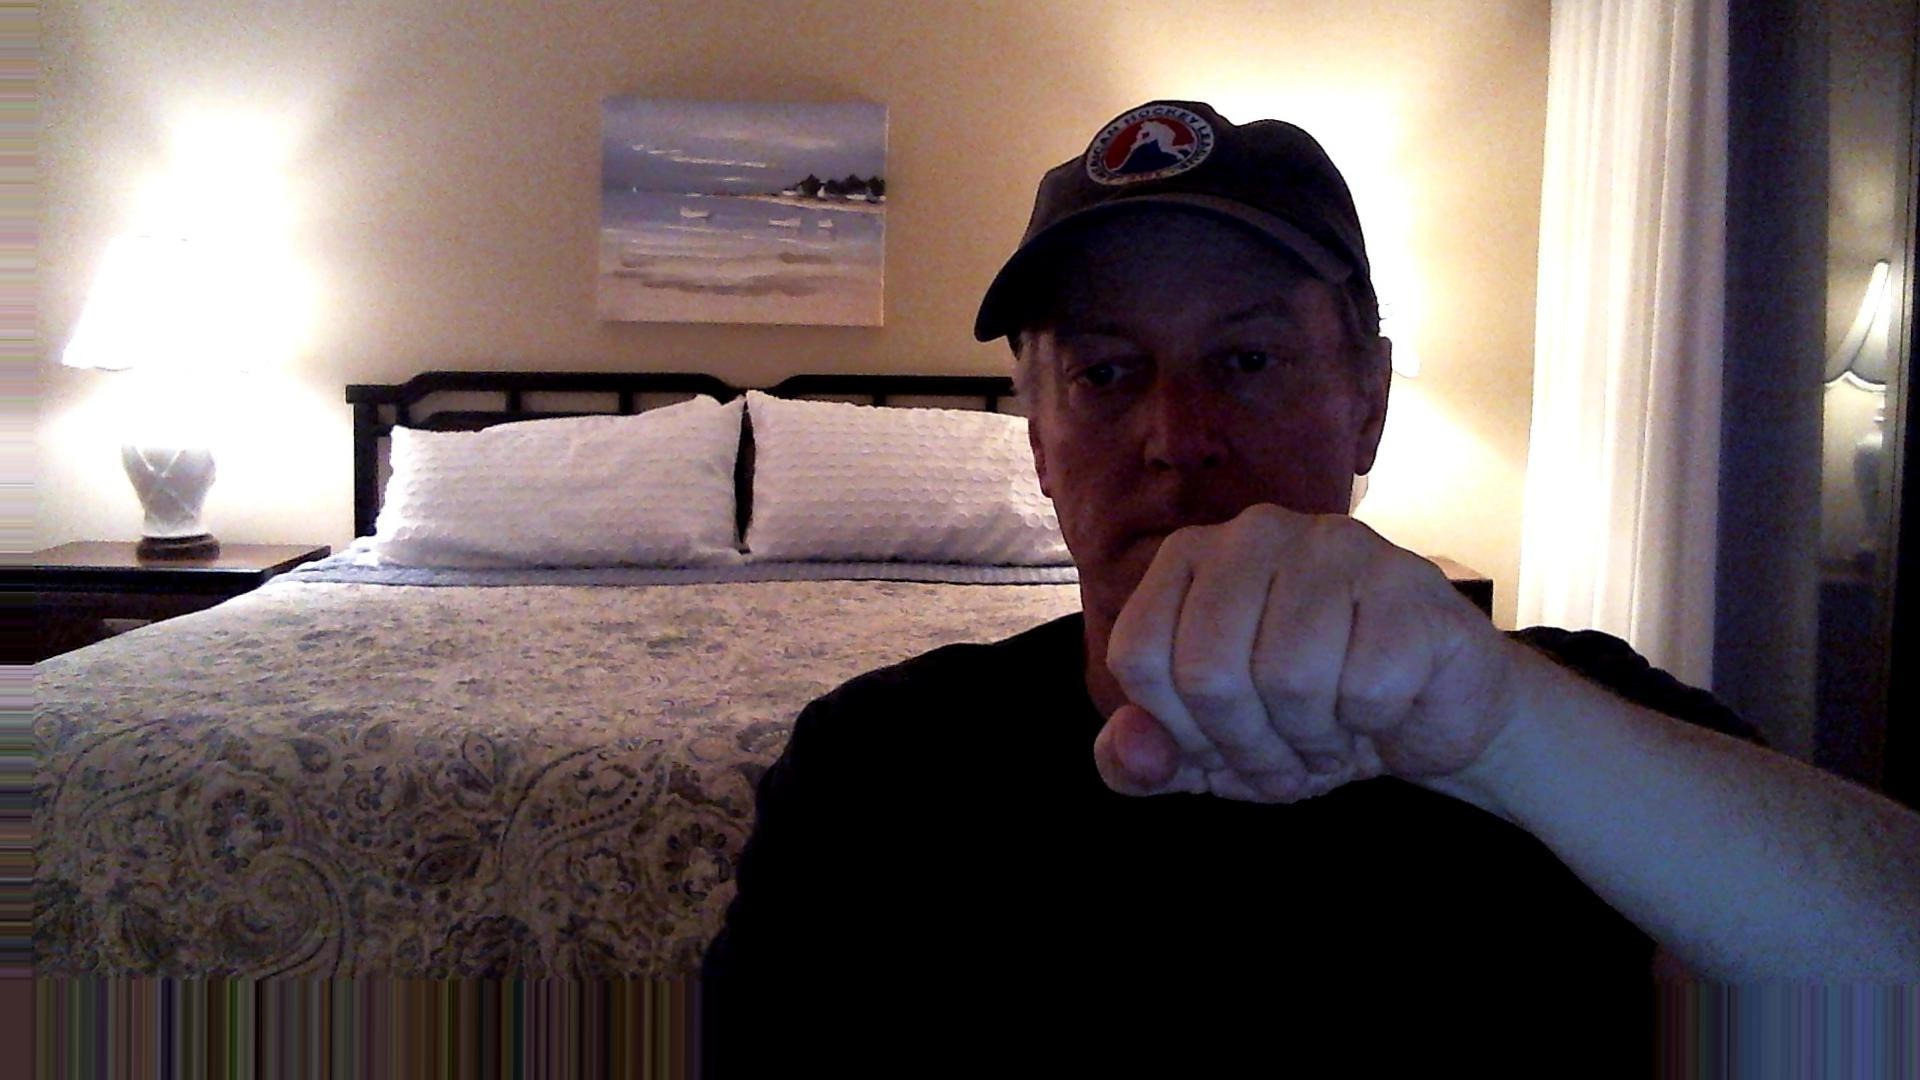Yes: (1073, 477, 1515, 806)
